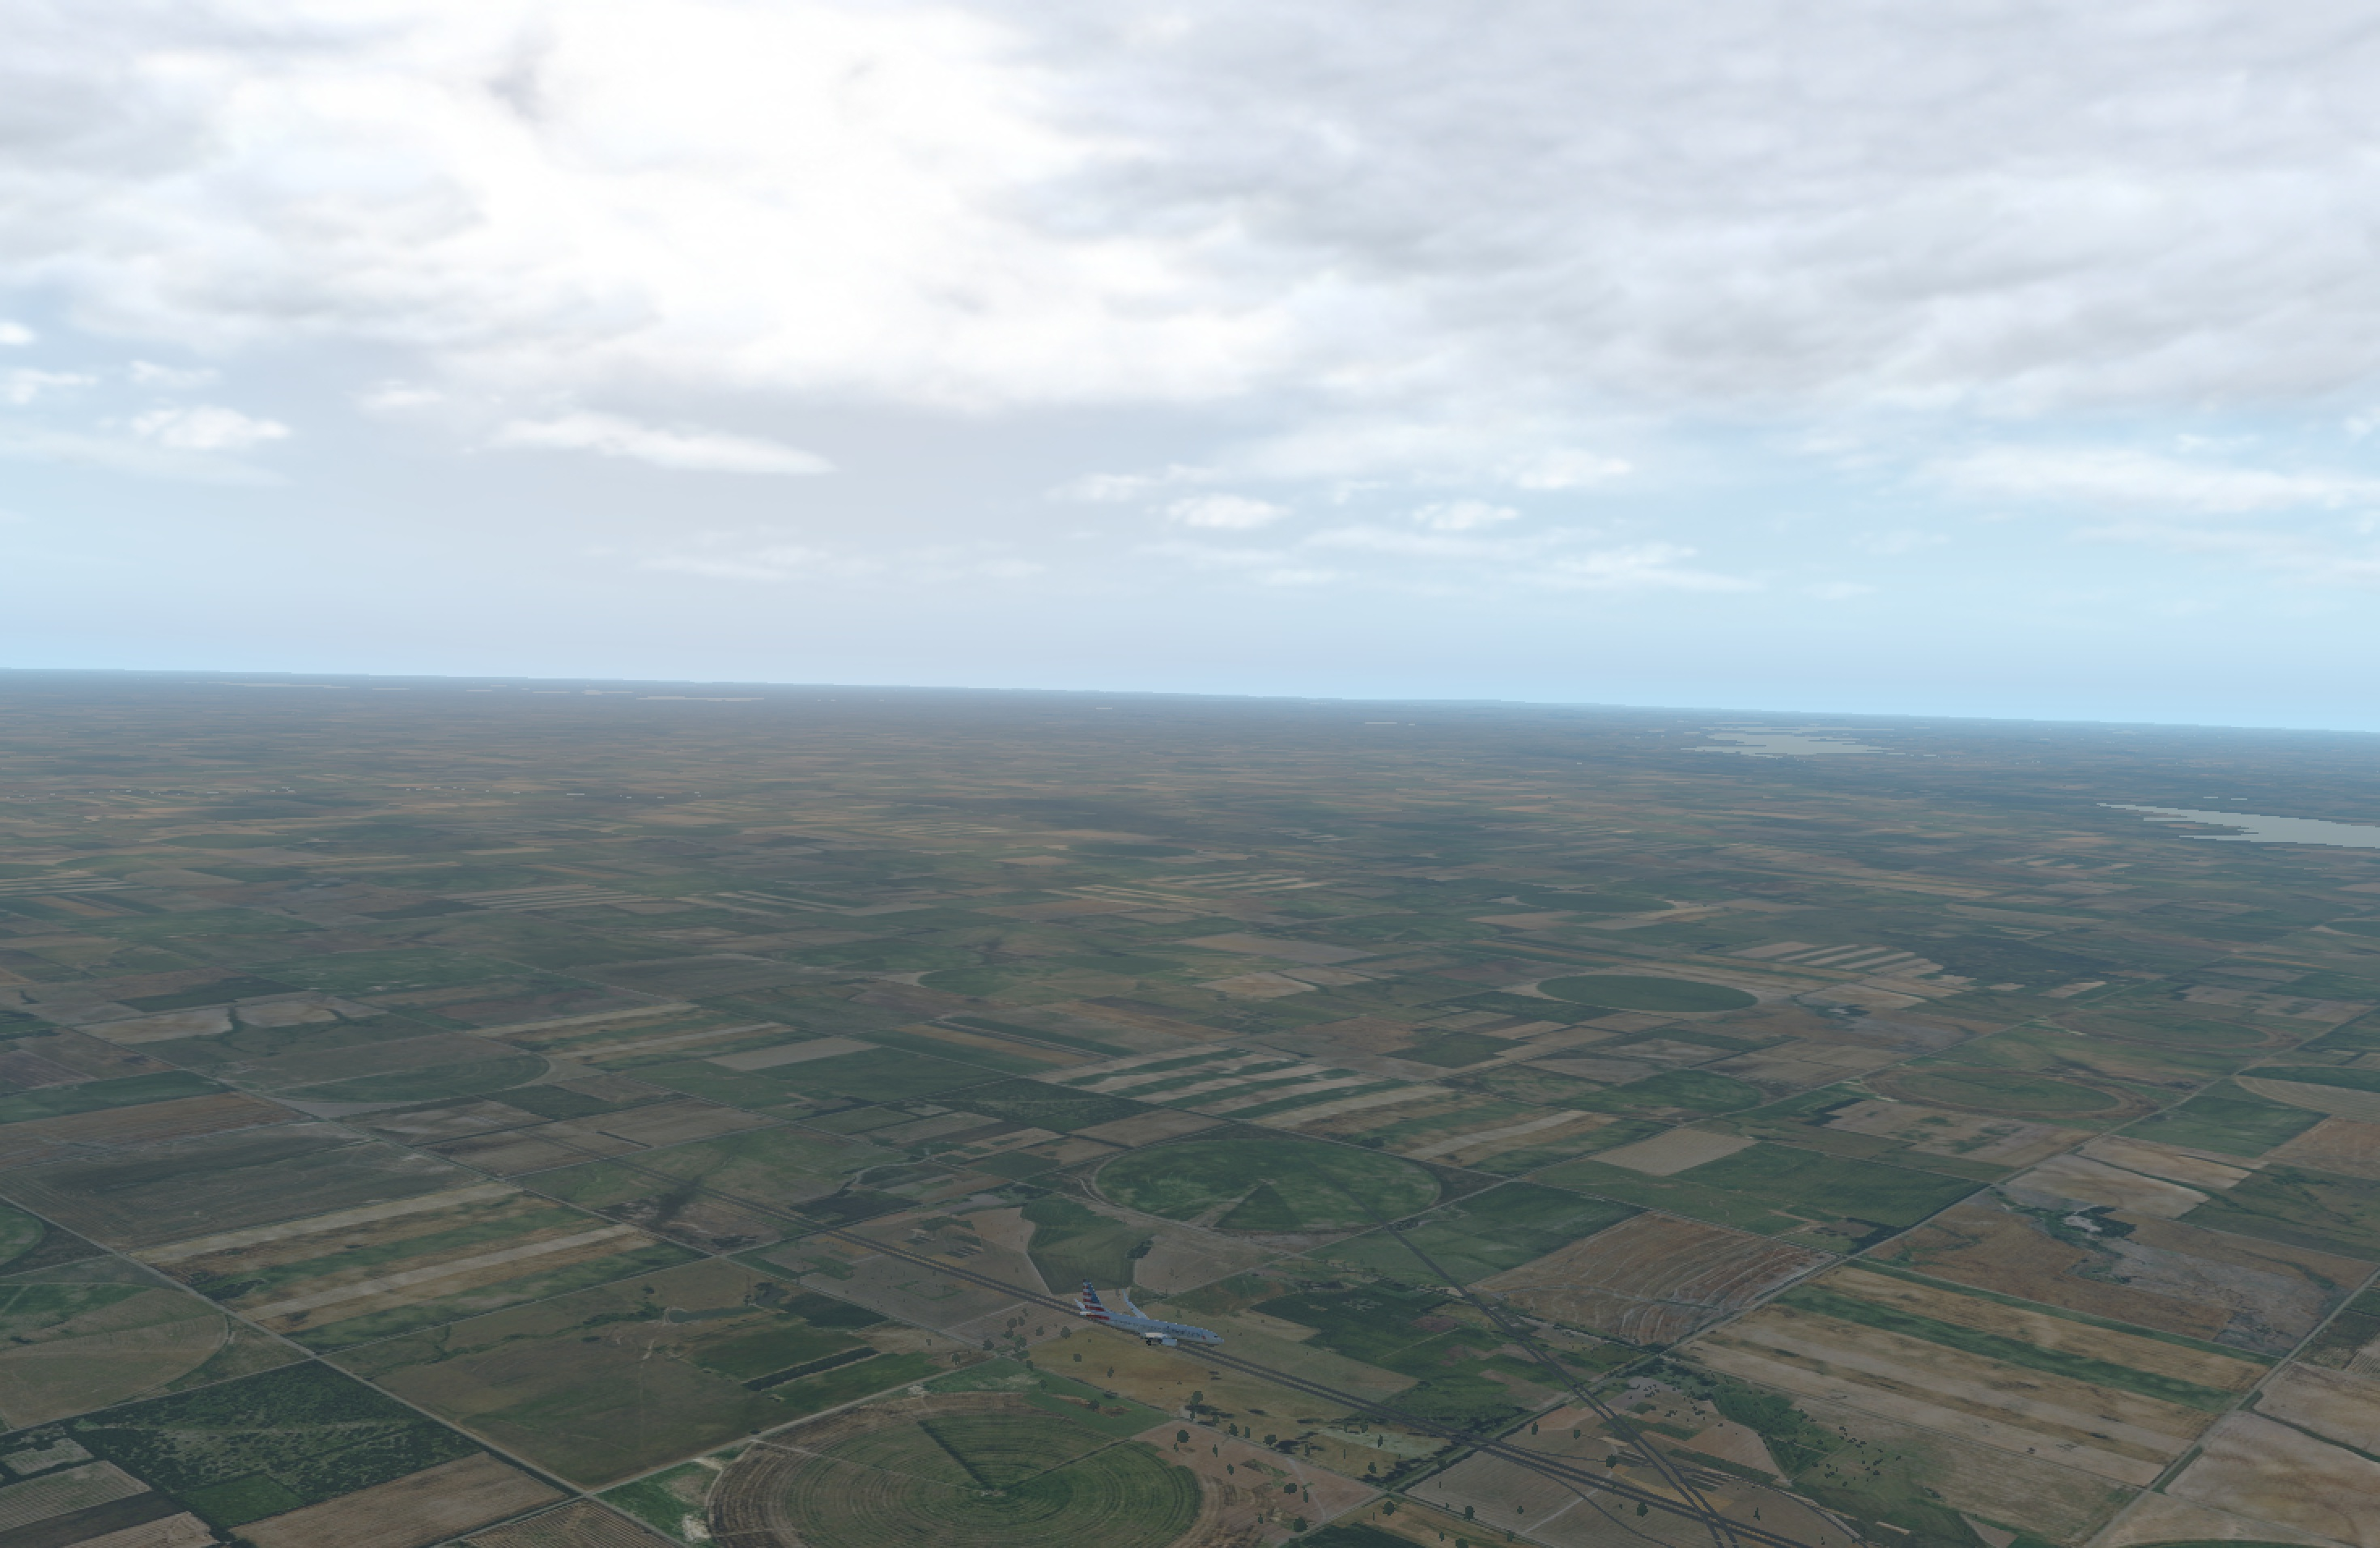aircraft: (1081, 1303, 1230, 1359)
